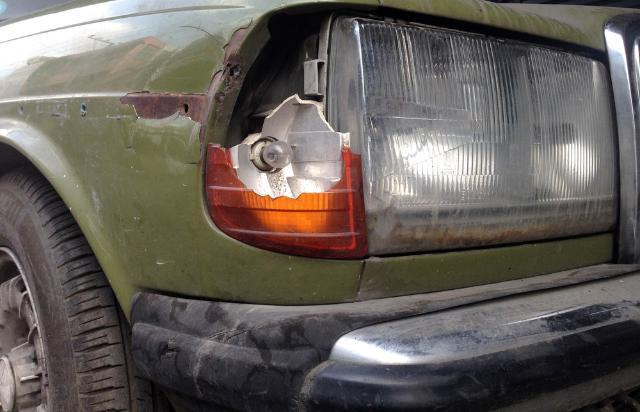lamp broken: (208, 8, 617, 258)
